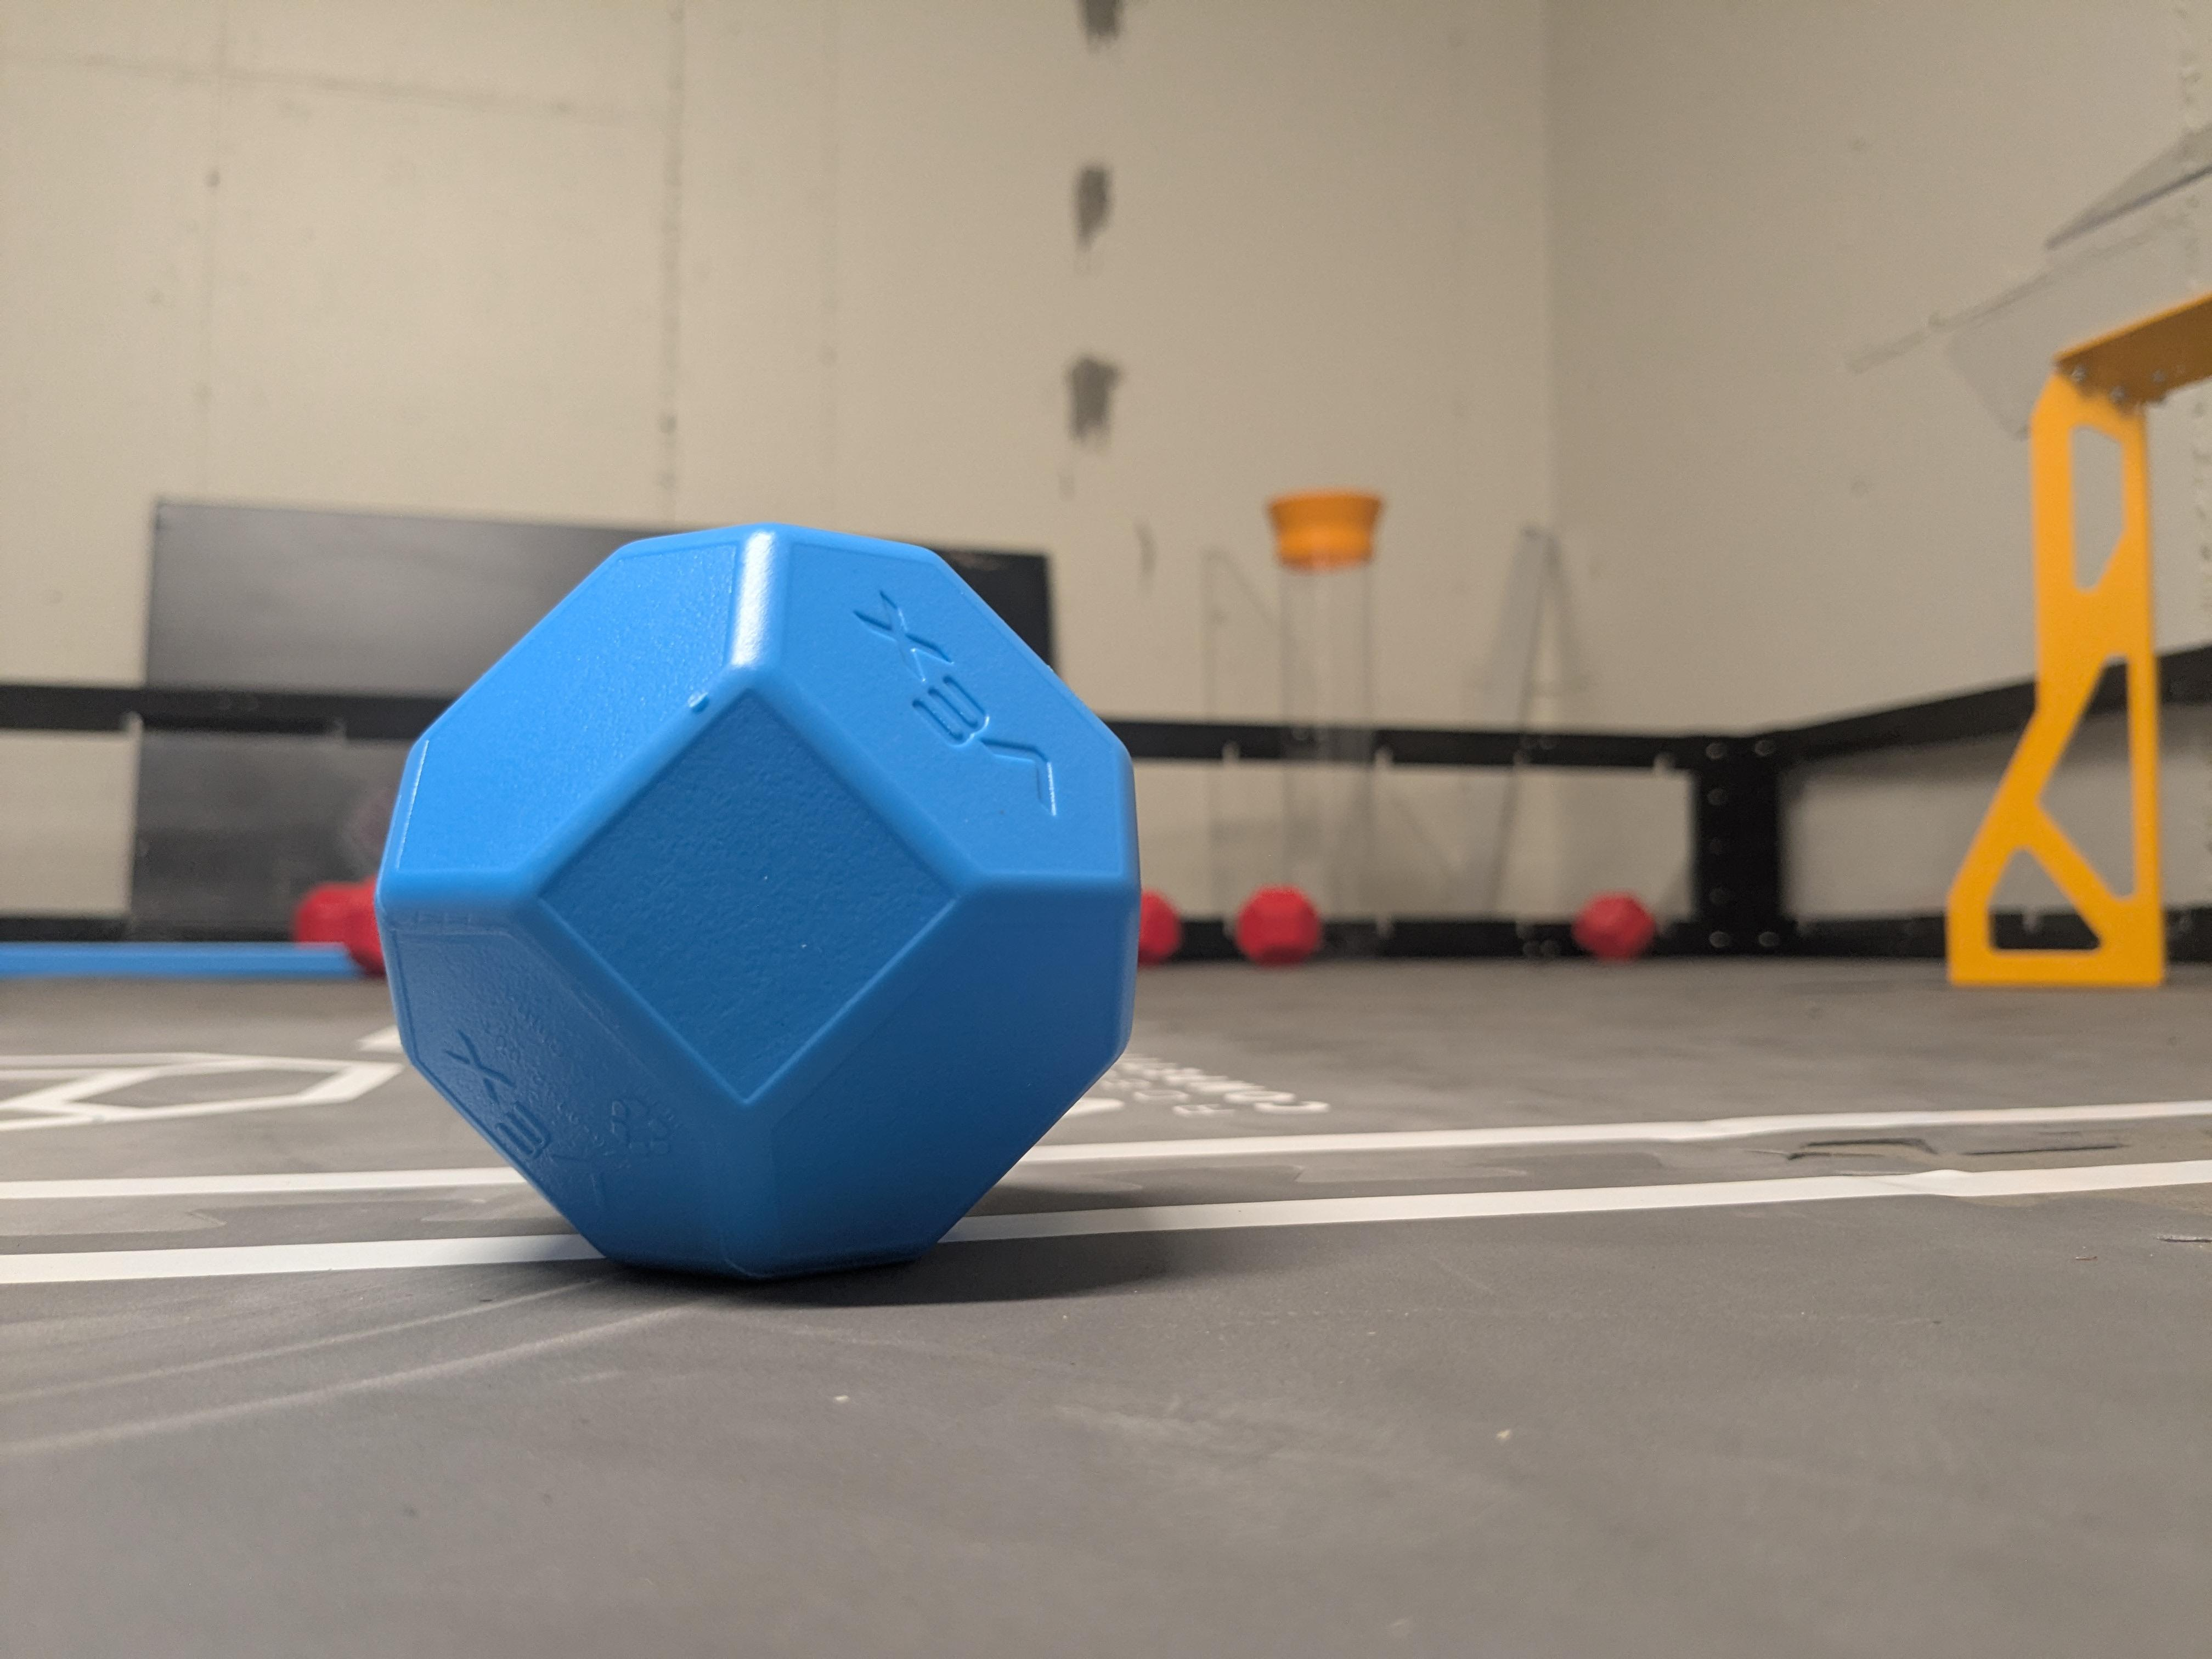Vex-Pieces-BLUE: (378, 525, 1141, 1279)
